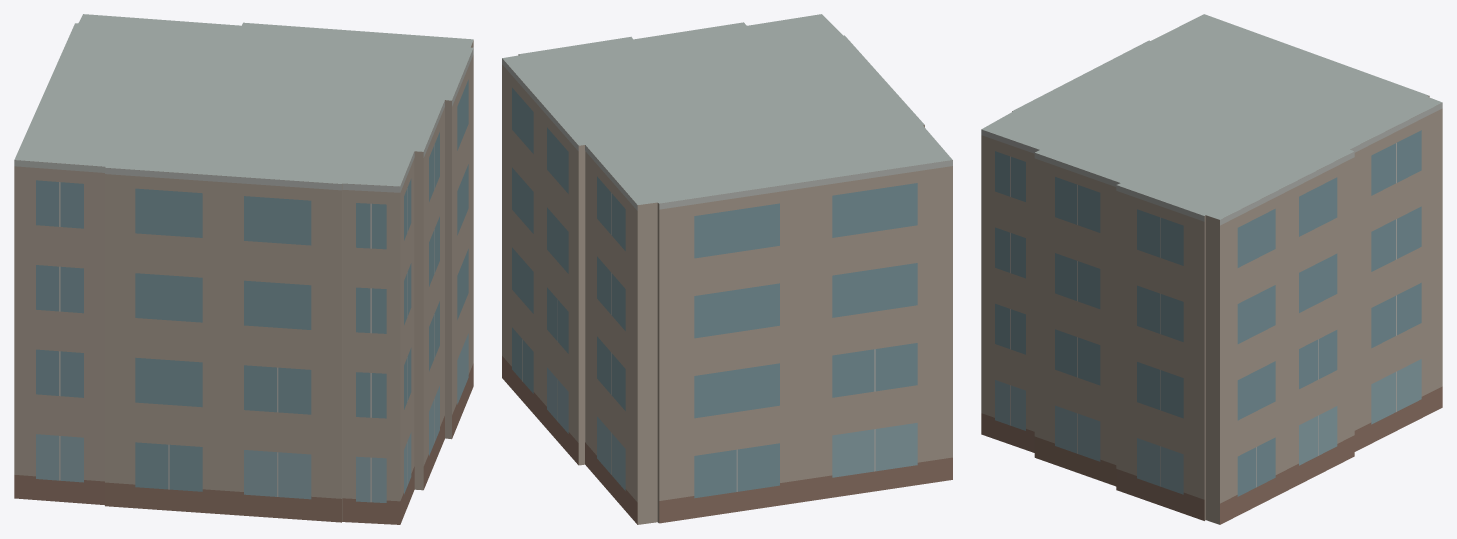
Rendered from survey-upis-32671373.glb.
3 views of the same model, side by side, from view 1: azimuth 30°, elevation 25°; view 2: azimuth 150°, elevation 25°; view 3: azimuth 270°, elevation 25° (orthographic). The views are drawn at different scales.
Parts seen in each view (by area): view 1: survey-upis-32671373.tmp; view 2: survey-upis-32671373.tmp; view 3: survey-upis-32671373.tmp.
Part boxes in pixels (<box>): survey-upis-32671373.tmp: <box>14,14,473,524</box>; survey-upis-32671373.tmp: <box>502,14,952,524</box>; survey-upis-32671373.tmp: <box>981,14,1442,524</box>.
Bounding box in the file's own units: 18.88 × 13.03 × 17.88.
